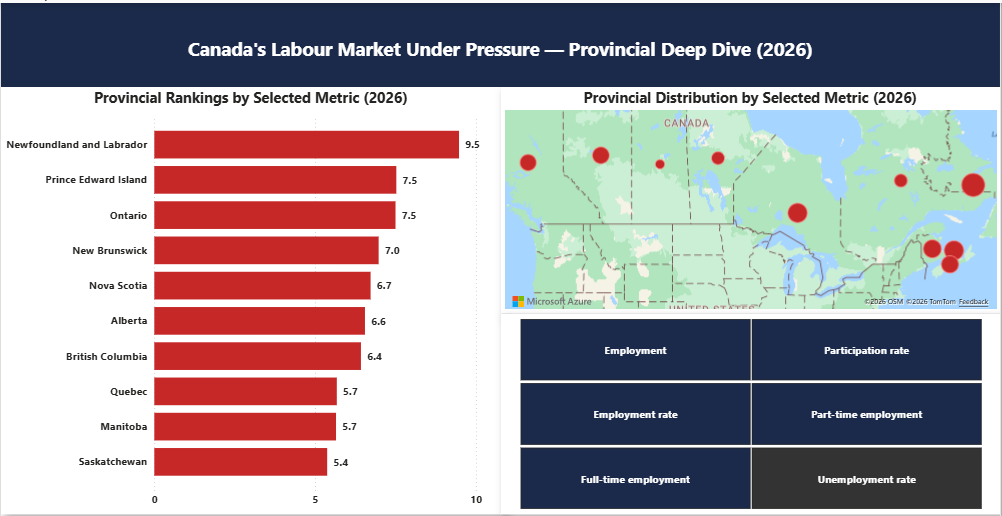

What the dashboard file says about the page in this screenshot:
{"tool":"powerbi","page":{"name":"Provincial Deep Dive","canvas":[1280,720],"ordinal":1},"visuals":[{"type":"textbox","box":[0,0,1279.4,107.9],"z":0},{"type":"textbox","box":[0,655.1,1279.4,65.5],"z":1000},{"type":"clusteredBarChart","title":"Provincial Rankings by Selected Metric (2026)","fields":{"Category":["labour_force_clean.Province"],"Y":["Avg(labour_force_clean.VALUE)"]},"box":[0,107.9,639.7,547.2],"z":2000},{"type":"azureMap","title":"Provincial Distribution by Selected Metric (2026)","fields":{"Category":["labour_force_clean.Province"],"Size":["Avg(labour_force_clean.VALUE)"]},"box":[639.7,107.6,639.7,290.1],"z":3000},{"type":"slicer","fields":{"Values":["labour_force_clean.metric"]},"box":[640,398,640,257],"z":4000}]}

Visuals, with their boxes on the page's 1280x720 design canvas (x1, y1, x2, y2). These are canvas units, not pixel positions in the 1002x516 screenshot, which may show the page scaled, cropped or inside an application window:
textbox: box=[0, 0, 1279, 108]
textbox: box=[0, 655, 1279, 721]
"Provincial Rankings by Selected Metric (2026)" clusteredBarChart: box=[0, 108, 640, 655]
"Provincial Distribution by Selected Metric (2026)" azureMap: box=[640, 108, 1279, 398]
slicer - labour_force_clean.metric: box=[640, 398, 1280, 655]
